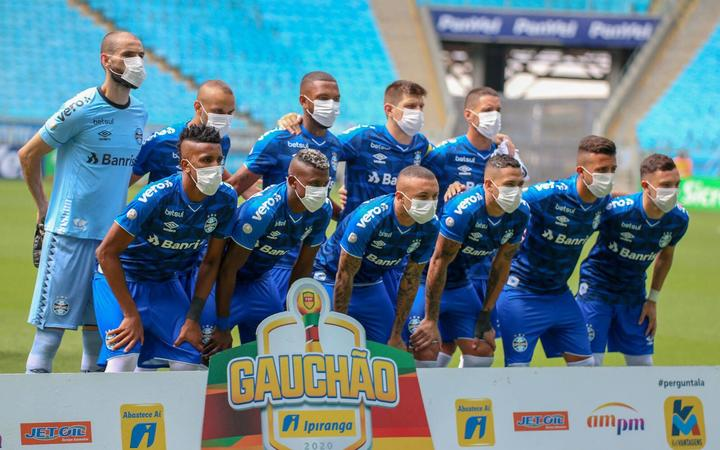with_mask: (306, 90, 342, 126), (647, 176, 683, 211), (113, 46, 145, 85), (397, 92, 424, 138), (296, 172, 332, 205), (197, 153, 222, 196), (590, 159, 616, 196), (497, 175, 523, 211), (414, 182, 438, 220), (212, 103, 240, 134), (475, 103, 499, 129)
